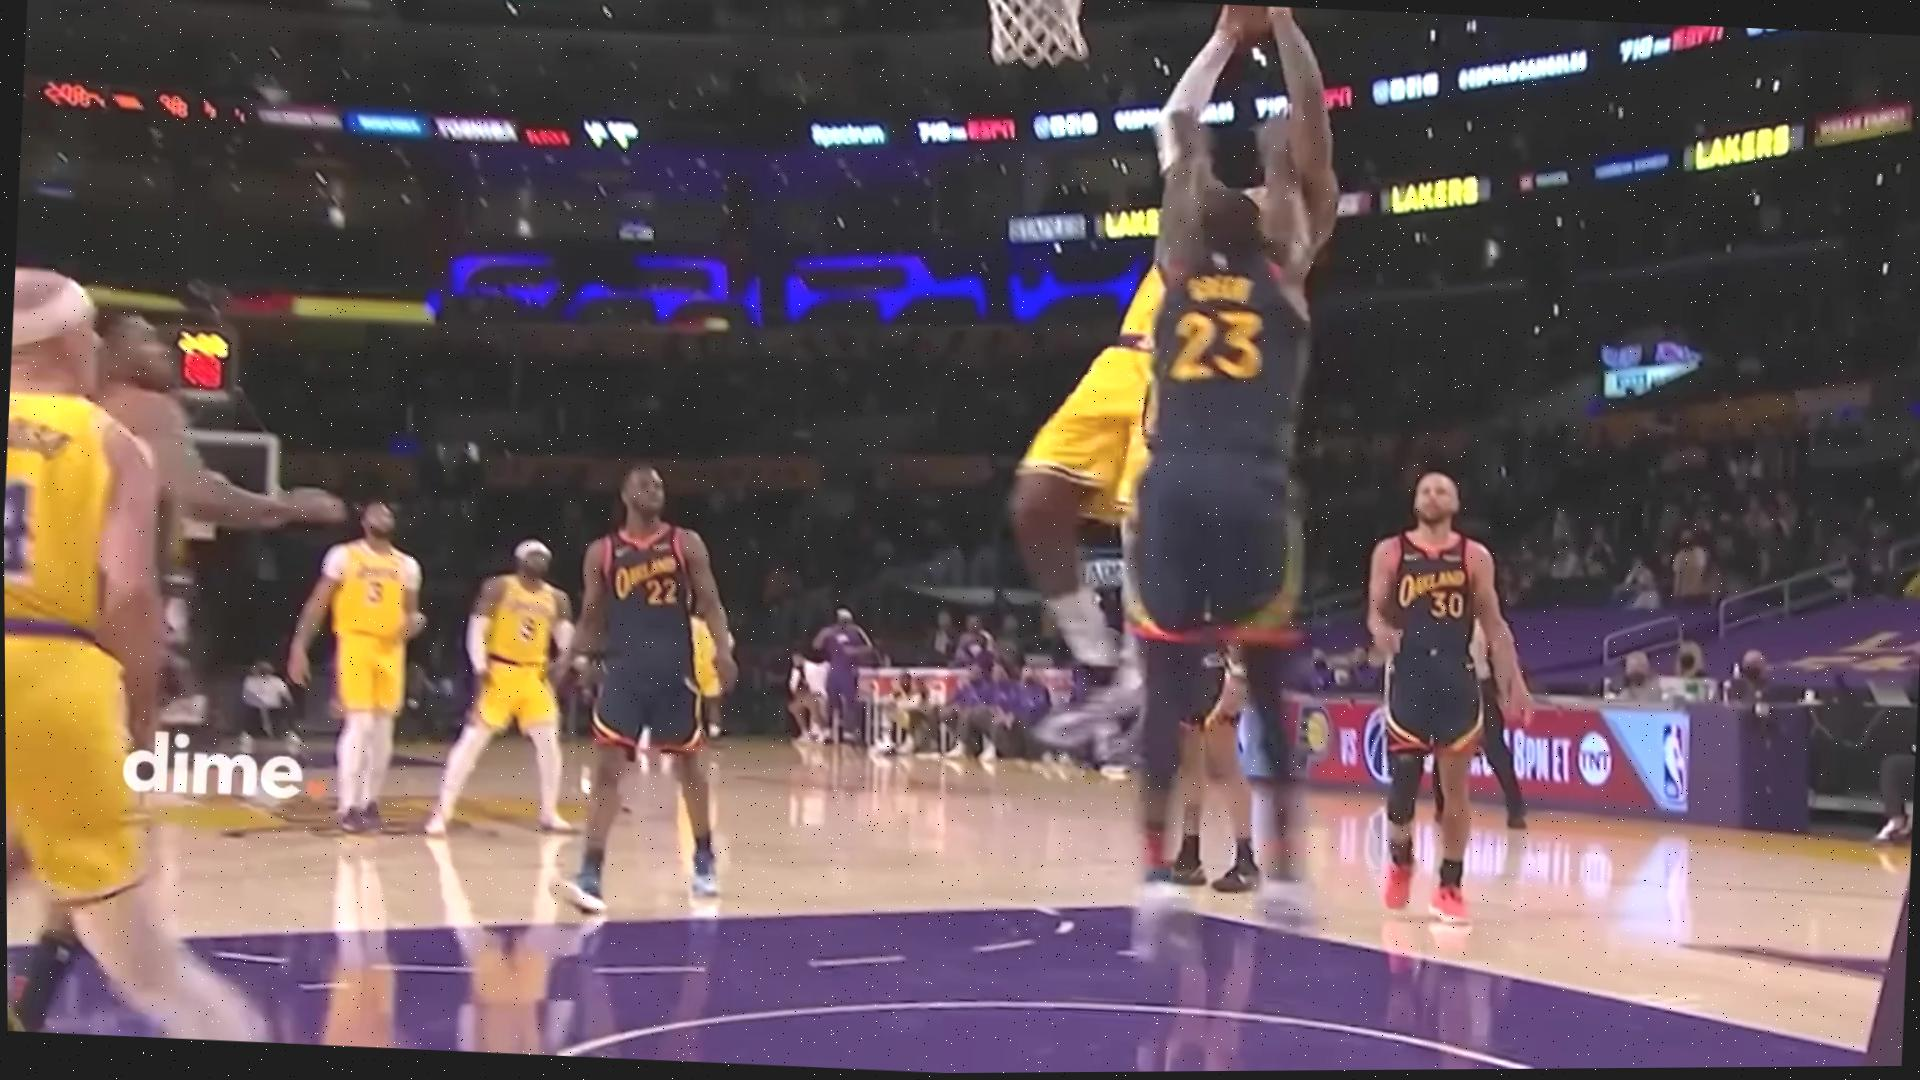foul: (980, 9, 1378, 963)
